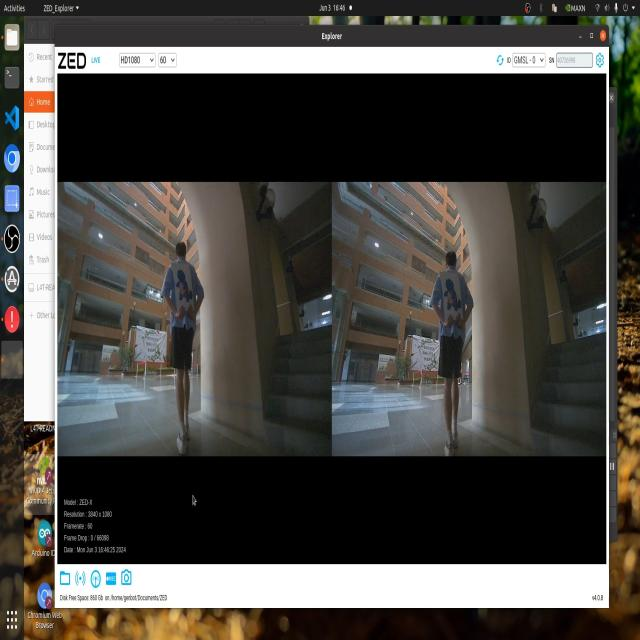blue: (438, 269, 465, 318), (174, 269, 202, 314)
